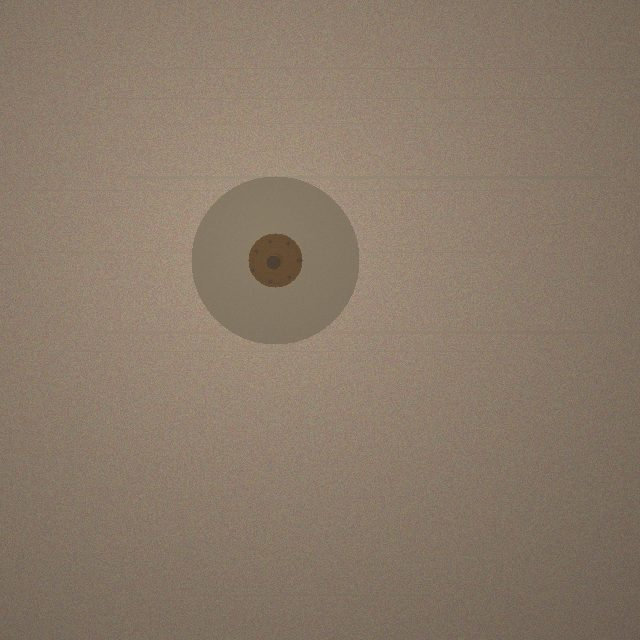cold_weld: (191, 176, 359, 344)
